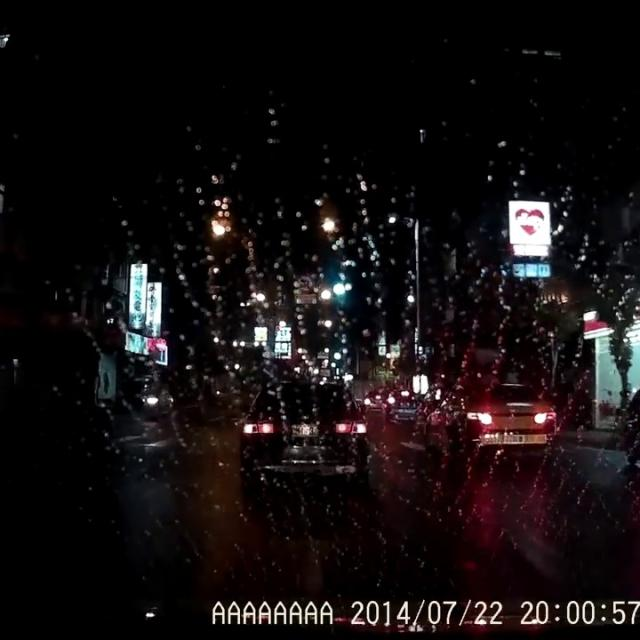Car: (238, 378, 369, 497), (419, 375, 559, 458), (380, 385, 418, 423)
